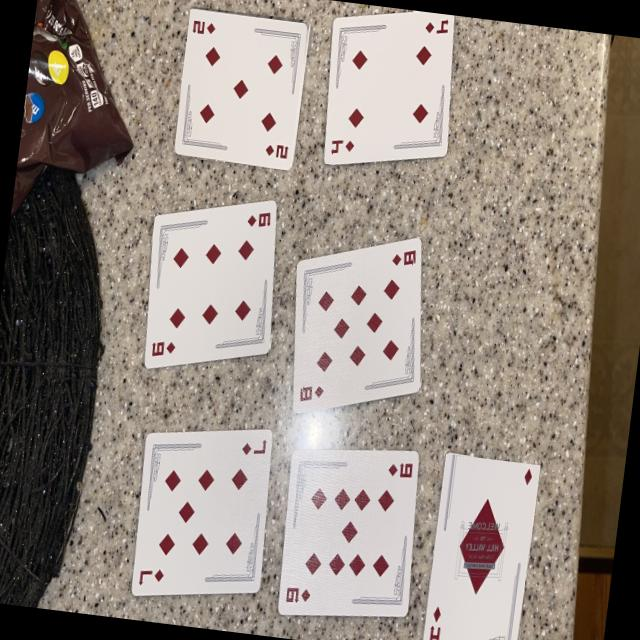4 of diamonds: (324, 9, 454, 164)
5 of diamonds: (176, 6, 308, 168)
6 of diamonds: (145, 198, 277, 367)
7 of diamonds: (131, 427, 272, 596)
8 of diamonds: (294, 236, 422, 412)
9 of diamonds: (278, 447, 419, 616)
Ace of diamonds: (422, 452, 540, 640)
